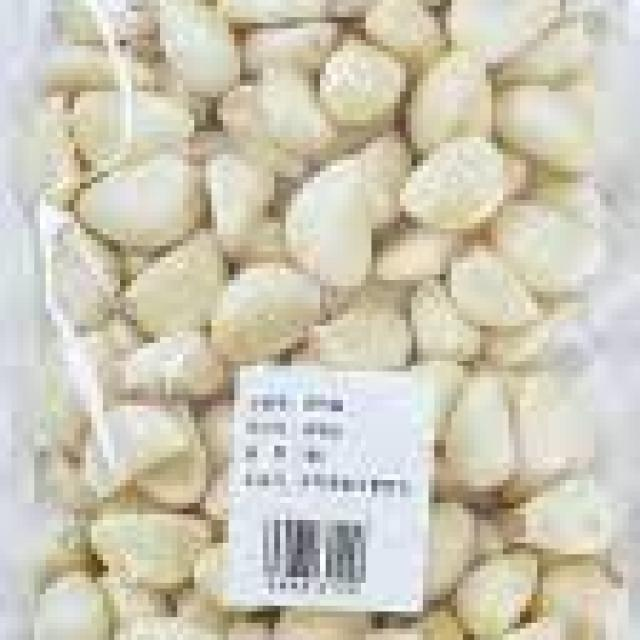garlic: (51, 0, 628, 640)
